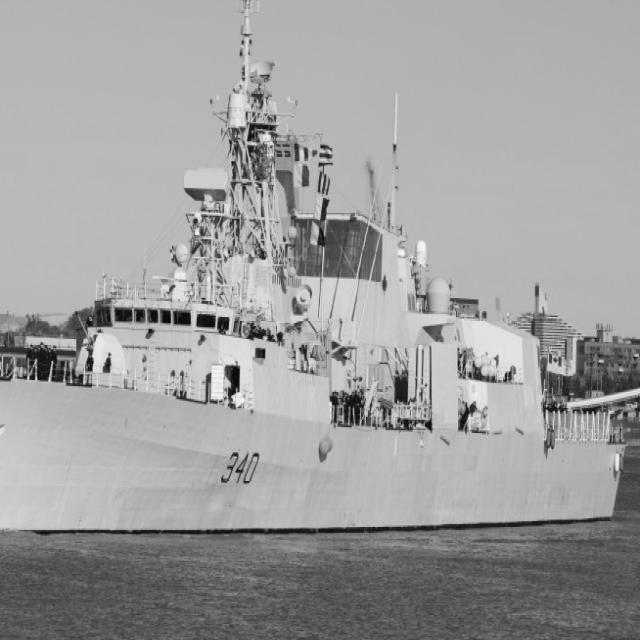Fragata: (1, 1, 639, 547)
